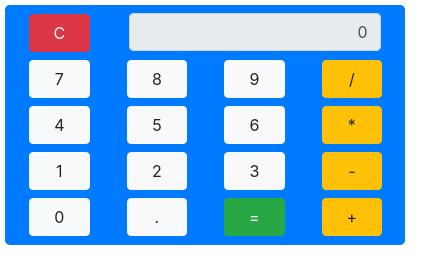
Component Calculator › should clear the number input
Click the button "2".
click(157, 171)  # box [126,152,187,190]
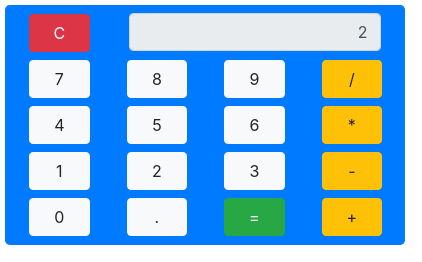
Click the button "C".
click(59, 33)  # box [29,14,90,52]
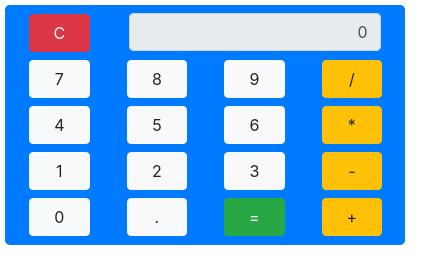
Now the field with test id "txtNumbers" holds "0", box [128,13,380,51]
